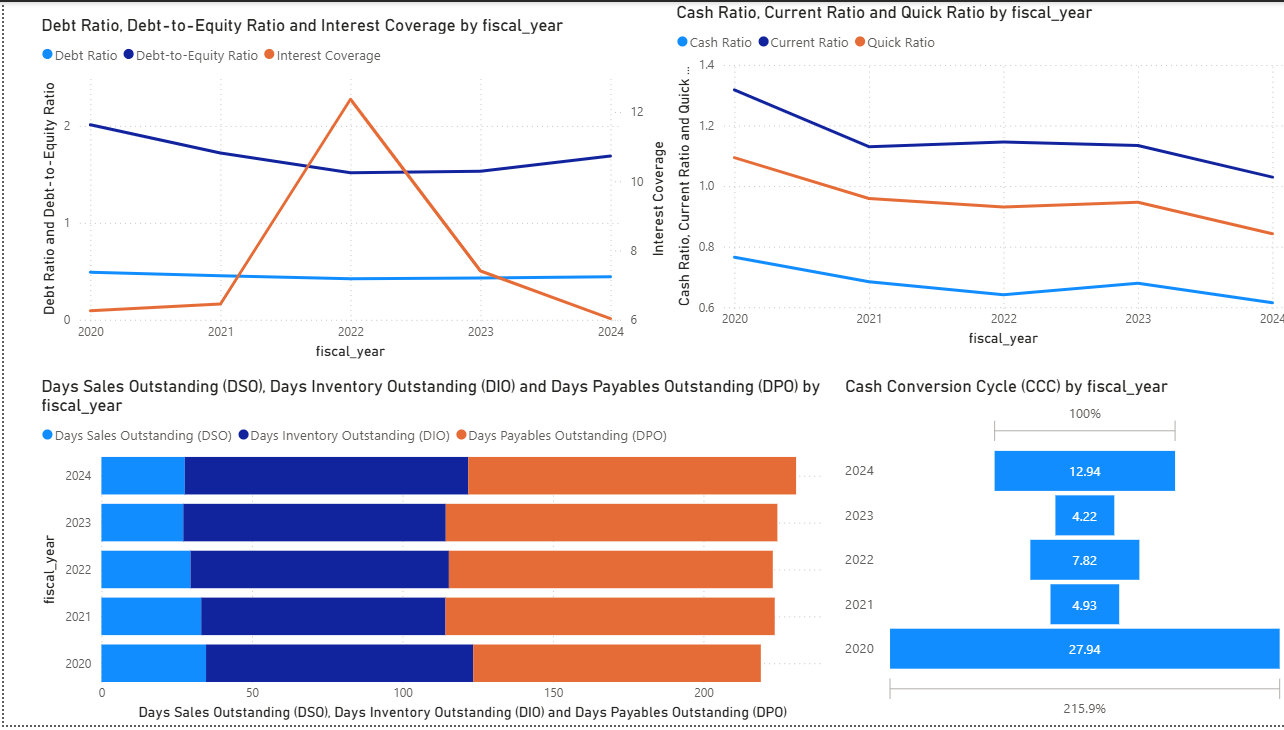

Layout of this report page (visuals, bound fields, positions):
{"tool":"powerbi","page":{"name":"Efficiency","canvas":[1280,720],"ordinal":5},"visuals":[{"type":"lineChart","title":"Debit Analysis","fields":{"Category":["Financial.fiscal_year"],"Y":["Solvency.Debt Ratio","Solvency.Debt-to-Equity Ratio"],"Y2":["Solvency.Interest Coverage"]},"box":[32.3,0,631.9,347.1],"z":0},{"type":"lineChart","title":"Cash Ratios","fields":{"Category":["Financial.fiscal_year"],"Y":["Liquidity.Cash Ratio","Liquidity.Current Ratio","Liquidity.Quick Ratio"]},"box":[663.8,0,616.2,347.5],"z":1000},{"type":"barChart","title":"Efficiency Analysis","fields":{"Category":["Financial.fiscal_year"],"Y":["Efficieny.Days Sales Outstanding (DSO)","Efficieny.Days Inventory Outstanding (DIO)","Efficieny.Days Payables Outstanding (DPO)"]},"box":[32.5,372.5,798.8,347.5],"z":2000},{"type":"funnel","fields":{"Category":["Financial.fiscal_year"],"Y":["Efficieny.Cash Conversion Cycle (CCC)"]},"box":[832.5,372.5,447.5,347.5],"z":3000}]}

Visuals, with their boxes in screenshot pixels (x1, y1, x2, y2), scaled from the page's 1280x720 canvas onto the 1284x730 screenshot:
"Debit Analysis" lineChart: box=[32, 0, 666, 352]
"Cash Ratios" lineChart: box=[666, 0, 1283, 352]
"Efficiency Analysis" barChart: box=[33, 378, 834, 729]
funnel - Financial.fiscal_year x Efficieny.Cash Conversion Cycle (CCC): box=[835, 378, 1283, 729]
